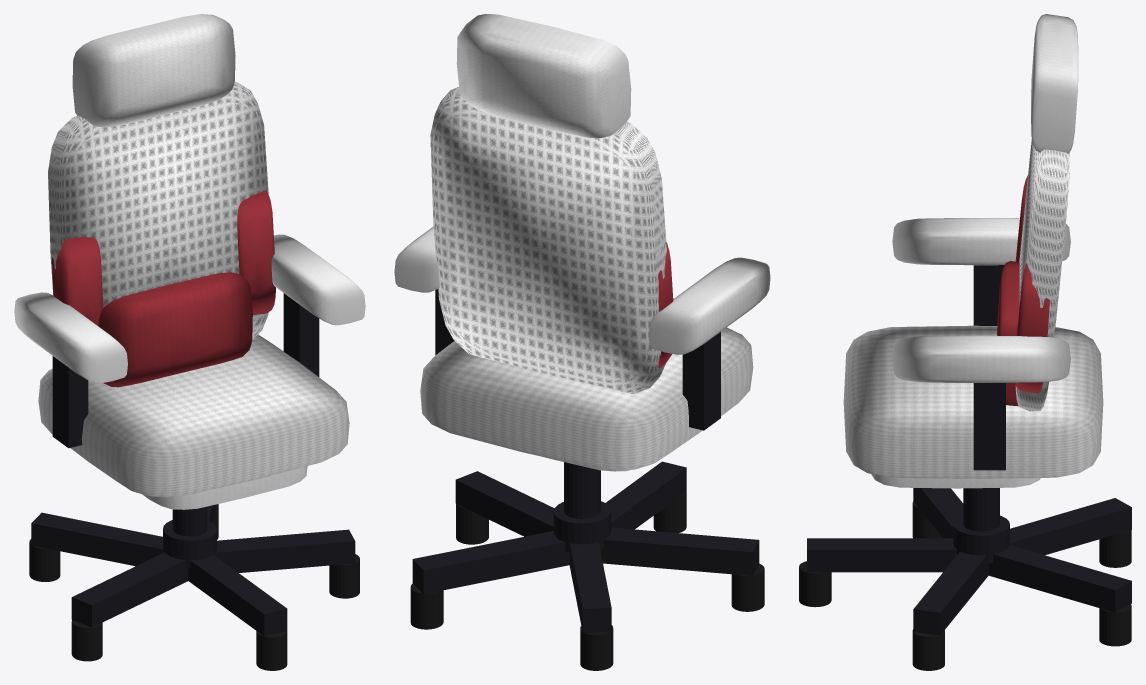
3 renders of one model, left to right at view 1: azimuth 30°, elevation 25°; view 2: azimuth 150°, elevation 25°; view 3: azimuth 270°, elevation 25°, orthographic. The views are drawn at different scales.
Visible parts, largest first — view 1: 3 backrest, 1 seat, 6 headrest, 7 lumbar_pillow, 8 armrest_left, 9 armrest_right, 15 base_spoke_2, 17 base_spoke_4, 18 base_spoke_5, 14 base_spoke_1, 5 backrest_trim_right, 4 backrest_trim_left (+9 smaller); view 2: 3 backrest, 1 seat, 6 headrest, 8 armrest_left, 18 base_spoke_5, 16 base_spoke_3, 15 base_spoke_2, 14 base_spoke_1, 10 armrest_support_left, 17 base_spoke_4, 9 armrest_right, 12 gas_lift (+8 smaller); view 3: 1 seat, 9 armrest_right, 3 backrest, 6 headrest, 8 armrest_left, 14 base_spoke_1, 16 base_spoke_3, 17 base_spoke_4, 15 base_spoke_2, 11 armrest_support_right, 5 backrest_trim_right, 7 lumbar_pillow (+10 smaller).
Part boxes in pixels (x1,y1,x2,y2): 3 backrest: (48, 81, 268, 381); 1 seat: (38, 334, 349, 497); 6 headrest: (72, 14, 235, 127); 7 lumbar_pillow: (98, 272, 252, 387); 8 armrest_left: (14, 292, 127, 383); 9 armrest_right: (271, 234, 365, 325); 15 base_spoke_2: (215, 529, 355, 572); 17 base_spoke_4: (31, 512, 163, 566); 18 base_spoke_5: (71, 552, 188, 627); 14 base_spoke_1: (188, 554, 287, 636); 5 backrest_trim_right: (237, 191, 275, 314); 4 backrest_trim_left: (52, 237, 103, 326); 3 backrest: (430, 87, 666, 394); 1 seat: (420, 327, 753, 470); 6 headrest: (456, 14, 631, 137); 8 armrest_left: (649, 257, 770, 354); 18 base_spoke_5: (600, 527, 759, 575); 16 base_spoke_3: (412, 531, 569, 593); 15 base_spoke_2: (455, 471, 554, 536); 14 base_spoke_1: (606, 461, 686, 529); 10 armrest_support_left: (682, 332, 720, 430); 17 base_spoke_4: (569, 542, 611, 632); 9 armrest_right: (394, 226, 439, 292); 12 gas_lift: (564, 462, 600, 518); 1 seat: (843, 325, 1103, 478); 9 armrest_right: (892, 335, 1070, 382); 3 backrest: (1015, 139, 1069, 411); 6 headrest: (1031, 14, 1078, 153); 8 armrest_left: (892, 218, 1070, 265); 14 base_spoke_1: (807, 538, 956, 572); 16 base_spoke_3: (988, 545, 1131, 612); 17 base_spoke_4: (1010, 498, 1131, 555); 15 base_spoke_2: (913, 551, 988, 635); 11 armrest_support_right: (973, 383, 1005, 470); 5 backrest_trim_right: (1015, 263, 1049, 393); 7 lumbar_pillow: (997, 261, 1019, 406).
Bounding box in the file's own units: 0.54 × 1 × 0.54.
9 materials, 6 textured.
